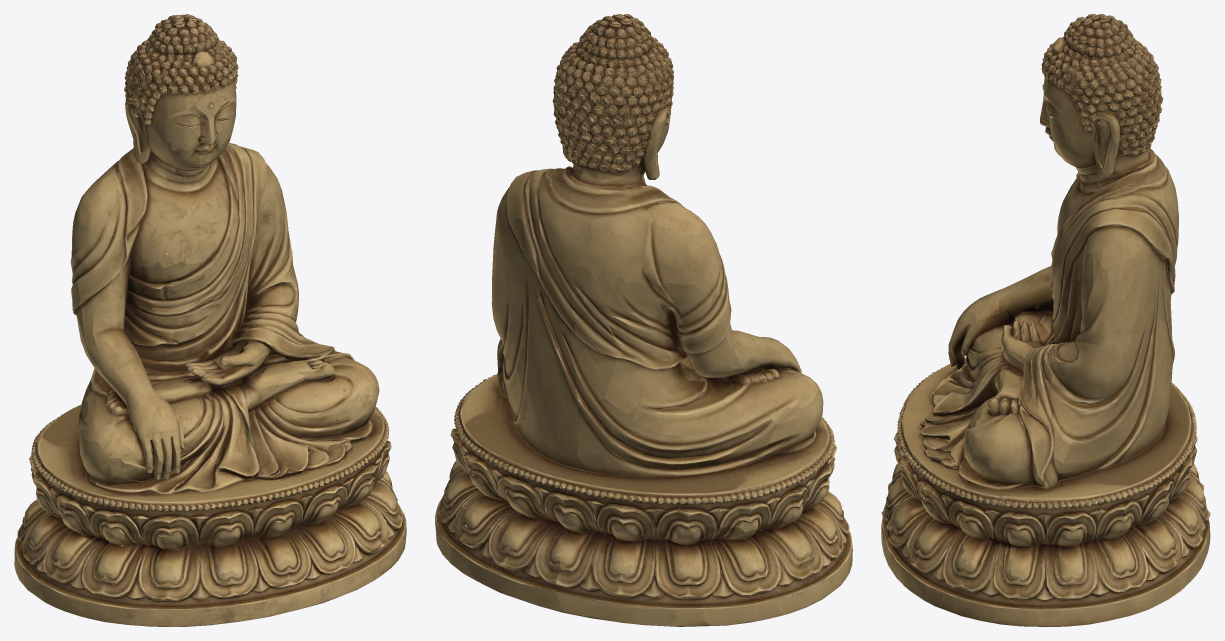
Rendered from buddha.glb.
3 renders of one model, left to right at view 1: azimuth 30°, elevation 25°; view 2: azimuth 150°, elevation 25°; view 3: azimuth 270°, elevation 25°, orthographic. The views are drawn at different scales.
Parts seen in each view (by area): view 1: output_unwrapped; view 2: output_unwrapped; view 3: output_unwrapped.
Boxes of the visible parts, bbox=[...] form: output_unwrapped: bbox=[14, 14, 406, 626]; output_unwrapped: bbox=[435, 14, 852, 626]; output_unwrapped: bbox=[881, 14, 1210, 626].
Bounding box in the file's own units: 1.36 × 1.9 × 1.09.
1 material, 1 textured.
